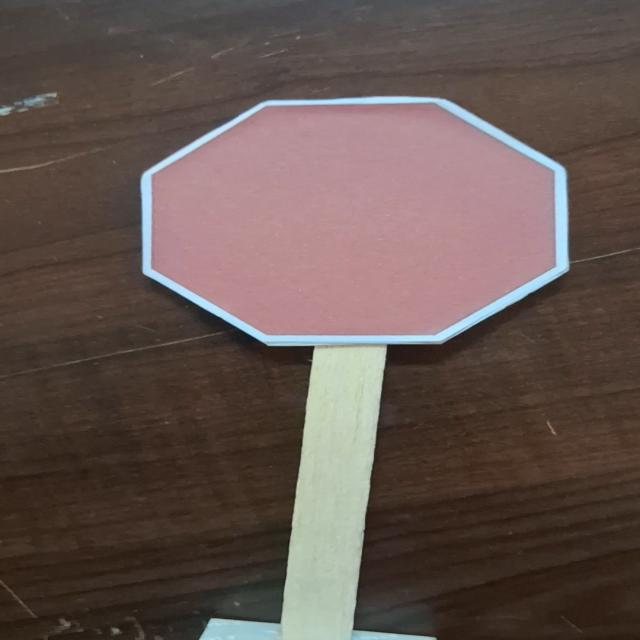Stop: (131, 90, 589, 352)
